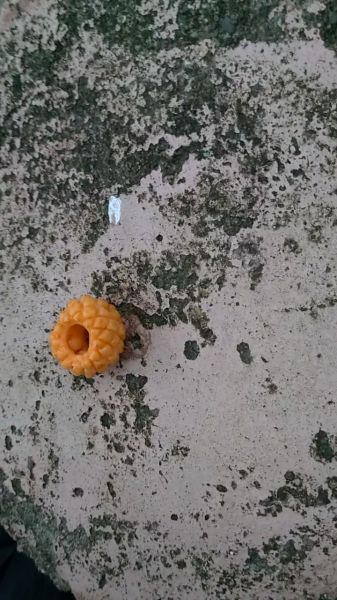eggs: (43, 291, 127, 382)
